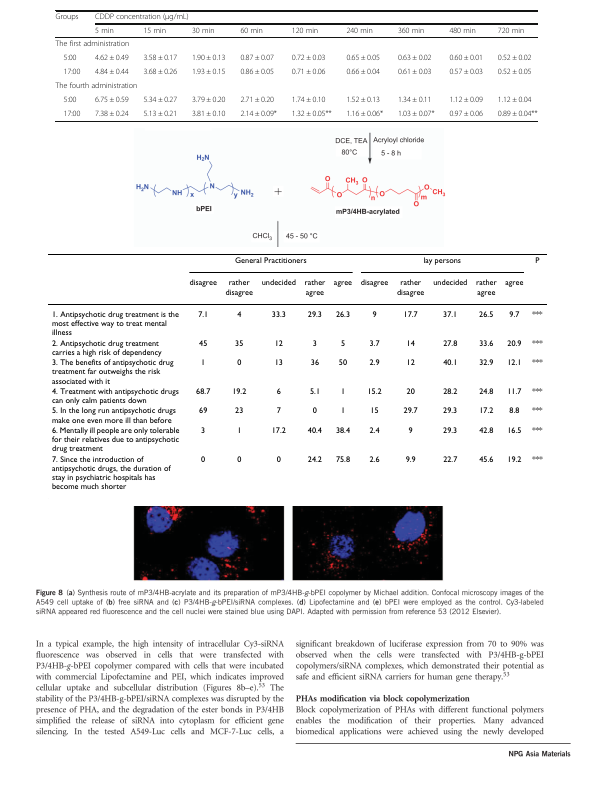borderless: (46, 252, 548, 500), (54, 9, 538, 121)
cell: (50, 455, 171, 492), (50, 426, 180, 454), (50, 310, 179, 338), (50, 358, 174, 387), (50, 406, 176, 426), (50, 387, 179, 406), (50, 339, 162, 358), (94, 13, 190, 22), (55, 81, 138, 91), (55, 39, 130, 49), (233, 256, 307, 266), (395, 279, 425, 298), (224, 279, 253, 298), (303, 279, 326, 298), (474, 279, 497, 298), (291, 109, 332, 119), (497, 109, 538, 119), (422, 256, 461, 266), (239, 109, 278, 119), (345, 109, 384, 119), (397, 109, 435, 119), (94, 53, 130, 63), (142, 53, 178, 63), (239, 53, 275, 63), (345, 53, 381, 63), (448, 53, 484, 63), (94, 67, 130, 77), (142, 67, 178, 77), (239, 67, 275, 77), (345, 67, 381, 77), (448, 67, 484, 77), (94, 95, 130, 105), (142, 95, 178, 105), (239, 95, 275, 105), (345, 95, 381, 105), (448, 95, 484, 105), (94, 109, 130, 119), (142, 109, 178, 119), (448, 109, 484, 119), (191, 53, 226, 63), (291, 53, 326, 63), (397, 53, 432, 63), (497, 53, 532, 63), (191, 67, 226, 77), (291, 67, 326, 77), (397, 67, 432, 77), (497, 67, 532, 77), (191, 95, 226, 105), (291, 95, 326, 105), (397, 95, 432, 105), (497, 95, 532, 105), (191, 109, 226, 119), (260, 279, 296, 288), (432, 279, 468, 288), (359, 279, 389, 288), (188, 279, 217, 288), (345, 26, 374, 35), (448, 26, 477, 35), (291, 26, 319, 35), (397, 26, 425, 35), (497, 26, 525, 35), (142, 26, 167, 35), (239, 26, 264, 35), (55, 13, 79, 22), (191, 26, 215, 35), (62, 67, 81, 77), (62, 109, 81, 119), (332, 279, 353, 288), (94, 26, 115, 35), (504, 279, 524, 288), (334, 426, 351, 436), (334, 455, 351, 465), (270, 310, 286, 320), (306, 310, 322, 320), (334, 310, 350, 320), (402, 310, 418, 320), (442, 310, 458, 320), (478, 310, 494, 320), (442, 339, 458, 349), (478, 339, 494, 349), (506, 339, 522, 349), (442, 358, 458, 368), (478, 358, 494, 368), (506, 358, 522, 368), (195, 387, 211, 397), (231, 387, 247, 397), (366, 387, 382, 397), (442, 387, 458, 397), (478, 387, 494, 397), (506, 387, 522, 397), (402, 406, 418, 416), (442, 406, 458, 416), (478, 406, 494, 416), (270, 426, 286, 436), (306, 426, 322, 436), (442, 426, 458, 436), (478, 426, 494, 436), (506, 426, 522, 436), (306, 455, 322, 465), (442, 455, 458, 465), (478, 455, 494, 465), (506, 455, 522, 465), (62, 53, 77, 63), (62, 95, 77, 105), (197, 310, 209, 320), (508, 310, 520, 320), (531, 310, 543, 320), (368, 339, 380, 349), (531, 339, 543, 349), (368, 358, 380, 368), (531, 358, 543, 368), (308, 387, 320, 397), (531, 387, 543, 397), (508, 406, 520, 416), (531, 406, 543, 416), (368, 426, 380, 436), (531, 426, 543, 436), (368, 455, 380, 465), (404, 455, 416, 465), (531, 455, 543, 465), (309, 358, 320, 368), (337, 358, 348, 368), (198, 339, 208, 349), (234, 339, 244, 349), (273, 339, 283, 349), (405, 339, 415, 349), (273, 358, 283, 368), (405, 358, 415, 368), (405, 387, 415, 397), (198, 406, 208, 416), (234, 406, 244, 416), (369, 406, 379, 416), (339, 339, 346, 349), (339, 387, 346, 397), (339, 406, 346, 416), (534, 256, 540, 266), (236, 310, 242, 320), (371, 310, 377, 320), (311, 339, 317, 349), (200, 358, 206, 368), (236, 358, 242, 368), (275, 387, 281, 397), (275, 406, 281, 416), (311, 406, 317, 416), (200, 426, 206, 436), (236, 426, 242, 436), (407, 426, 413, 436), (200, 455, 206, 465), (236, 455, 242, 465), (275, 455, 281, 465)
